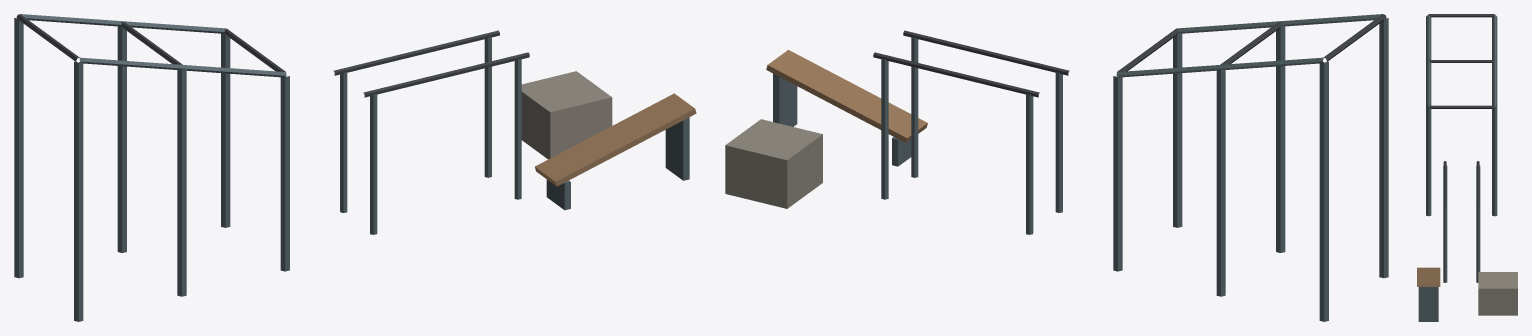
File: fitness-rig-liDzTI_M.glb
3 renders of one model, left to right at view 1: azimuth 30°, elevation 25°; view 2: azimuth 150°, elevation 25°; view 3: azimuth 270°, elevation 25°, orthographic. The views are drawn at different scales.
Visible parts, largest first — view 1: fitness-rig; view 2: fitness-rig; view 3: fitness-rig.
Boxes of the visible parts, box(x1,y1,x2,y2) form: fitness-rig: box(14, 14, 696, 321); fitness-rig: box(725, 14, 1388, 321); fitness-rig: box(1417, 14, 1517, 321).
Bounding box in the file's own units: 5.93 × 2.43 × 1.52.
